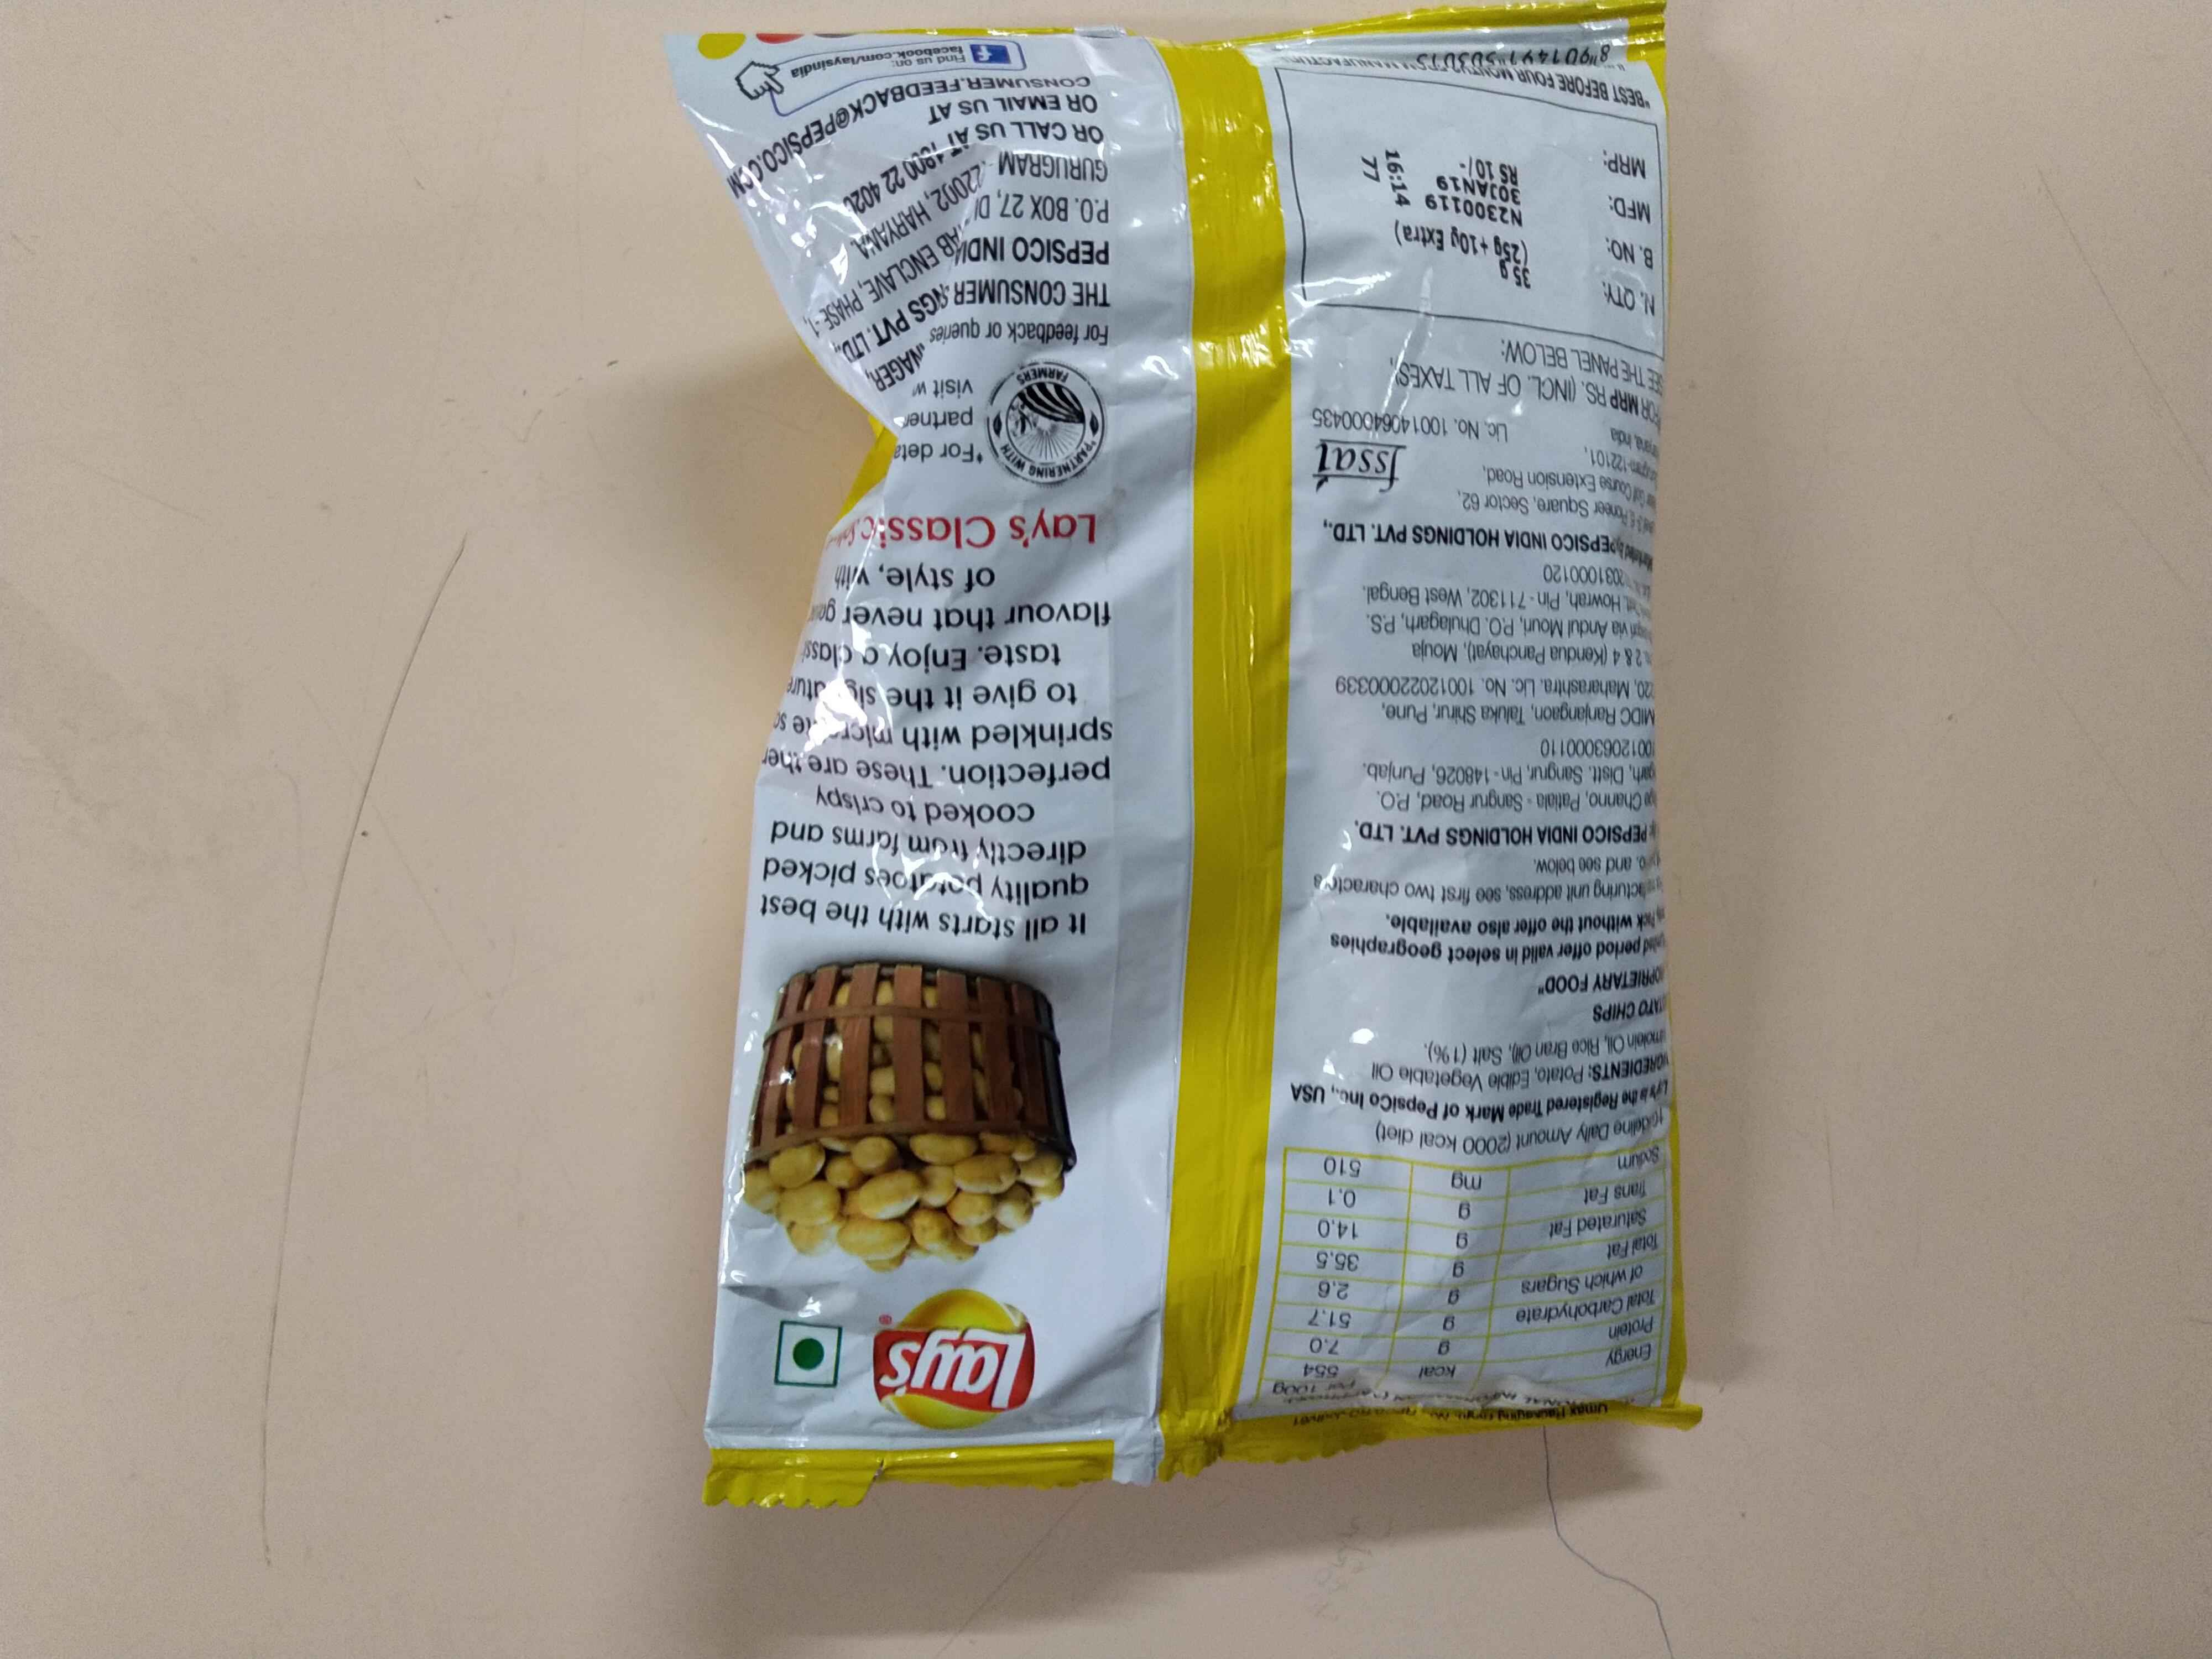Lays: (836, 1281, 1050, 1439)
